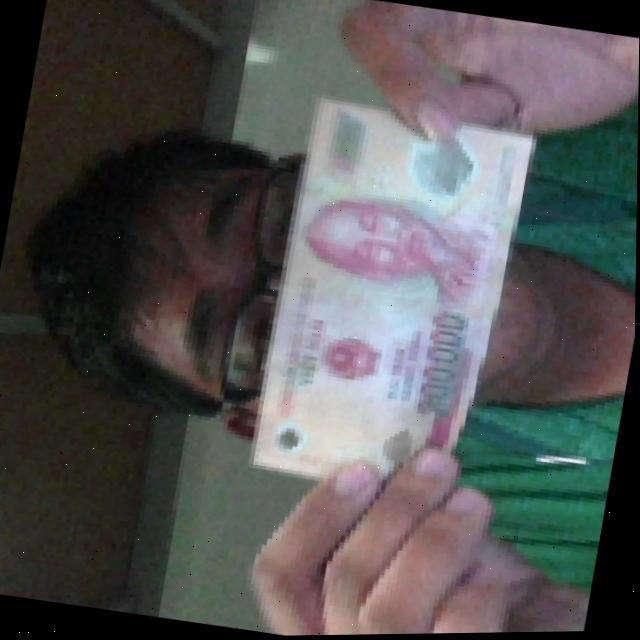200 000 VND: (237, 86, 539, 510)
